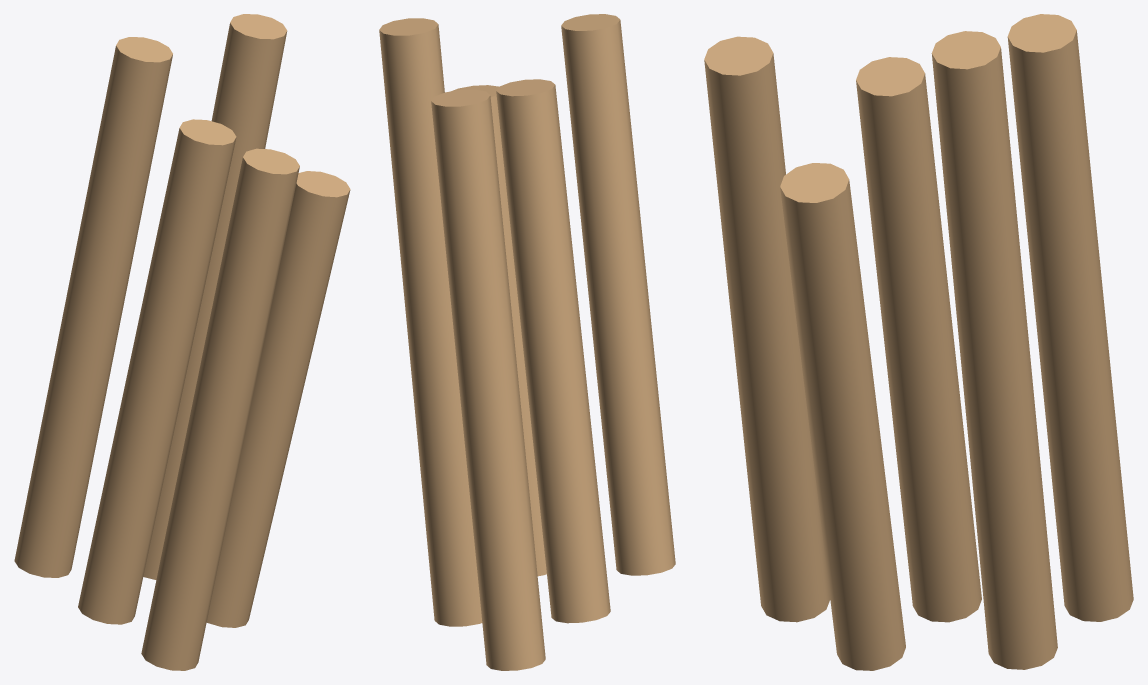
File: SM_Menu_RolledScenicPlans.fbx
3 views of the same model, side by side, from view 1: azimuth 30°, elevation 25°; view 2: azimuth 150°, elevation 25°; view 3: azimuth 270°, elevation 25° (orthographic). The views are drawn at different scales.
Parts seen in each view (by area): view 1: SM_Menu_RolledScenicPlans; view 2: SM_Menu_RolledScenicPlans; view 3: SM_Menu_RolledScenicPlans.
Boxes of the visible parts, <box> form: SM_Menu_RolledScenicPlans: <box>14,14,350,670</box>; SM_Menu_RolledScenicPlans: <box>379,14,675,670</box>; SM_Menu_RolledScenicPlans: <box>704,14,1133,670</box>.
Bounding box in the file's own units: 45.87 × 67.95 × 115.
